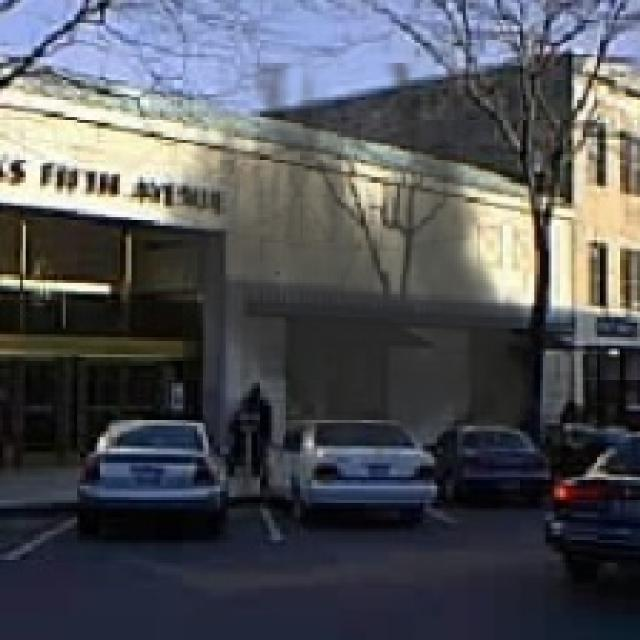Smoke: (142, 62, 554, 474)
